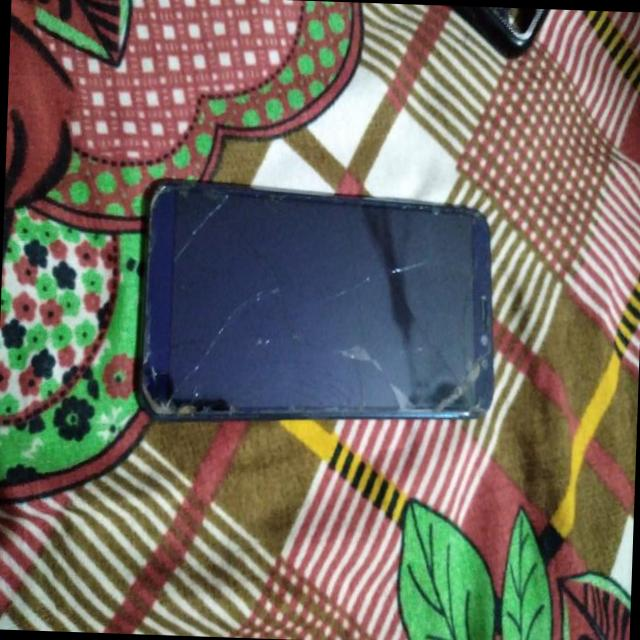screen crack: (144, 183, 493, 453)
